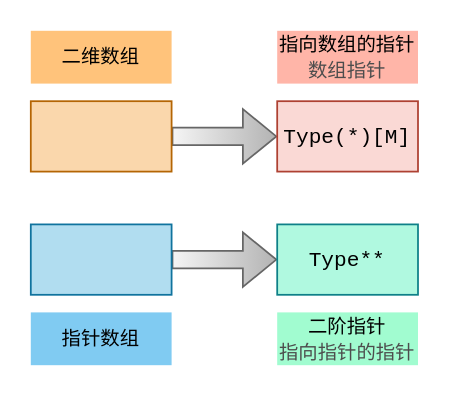
This 449x394 diagram has some shape labels left out. Each missing label, with the centre of its shape:
Type*[M]: pixel 100 259
Type[N][M]: pixel 100 135
